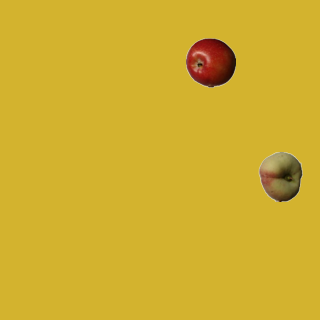Apple Braeburn: (185, 37, 235, 87)
Peach Flat: (255, 151, 305, 201)
